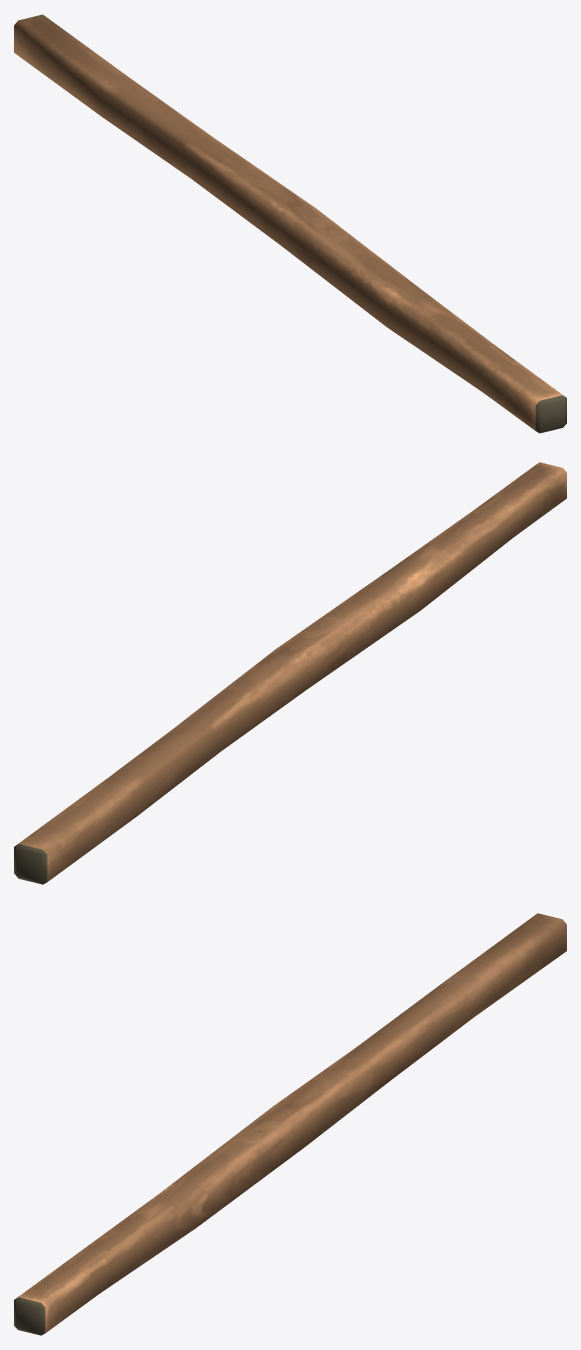
File: beamLong.fbx
The picture shows the model from 3 angles, top to bottom: view 1: azimuth 30°, elevation 25°; view 2: azimuth 150°, elevation 25°; view 3: azimuth 330°, elevation 25°; orthographic projection.
Parts seen in each view (by area): view 1: beamLong; view 2: beamLong; view 3: beamLong.
Part boxes in pixels (left/top/right/bottom): beamLong: left=14, top=14, right=566, bottom=433; beamLong: left=14, top=462, right=566, bottom=884; beamLong: left=14, top=913, right=566, bottom=1335.
Size of the model in its own units: 0.3368 by 0.3561 by 8.17.
